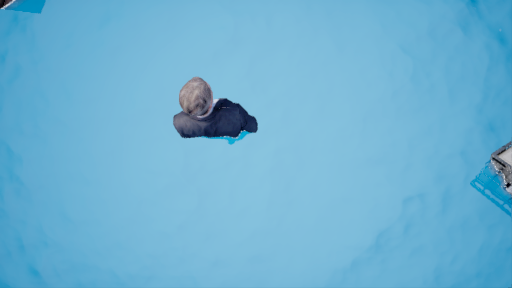person: (165, 79, 257, 148)
